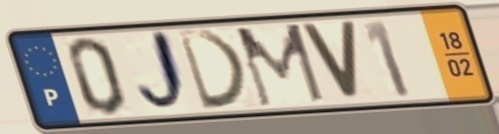0: (66, 34, 131, 119)
1: (363, 17, 414, 100)
D: (174, 28, 252, 113)
J: (134, 27, 195, 119)
M: (231, 20, 329, 111)
V: (296, 20, 362, 103)
